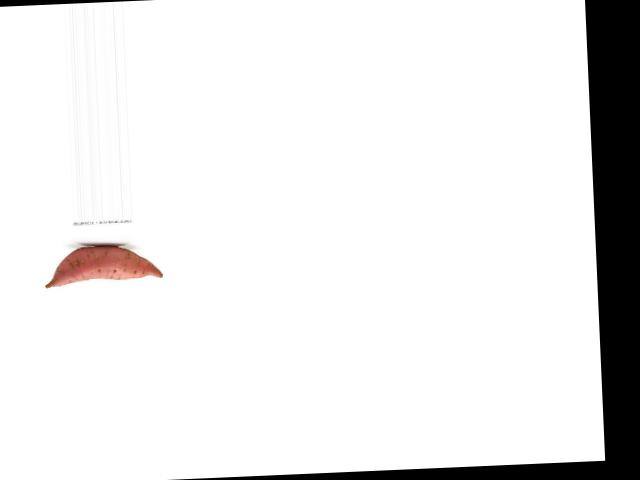sweet_potato: (42, 242, 164, 294)
